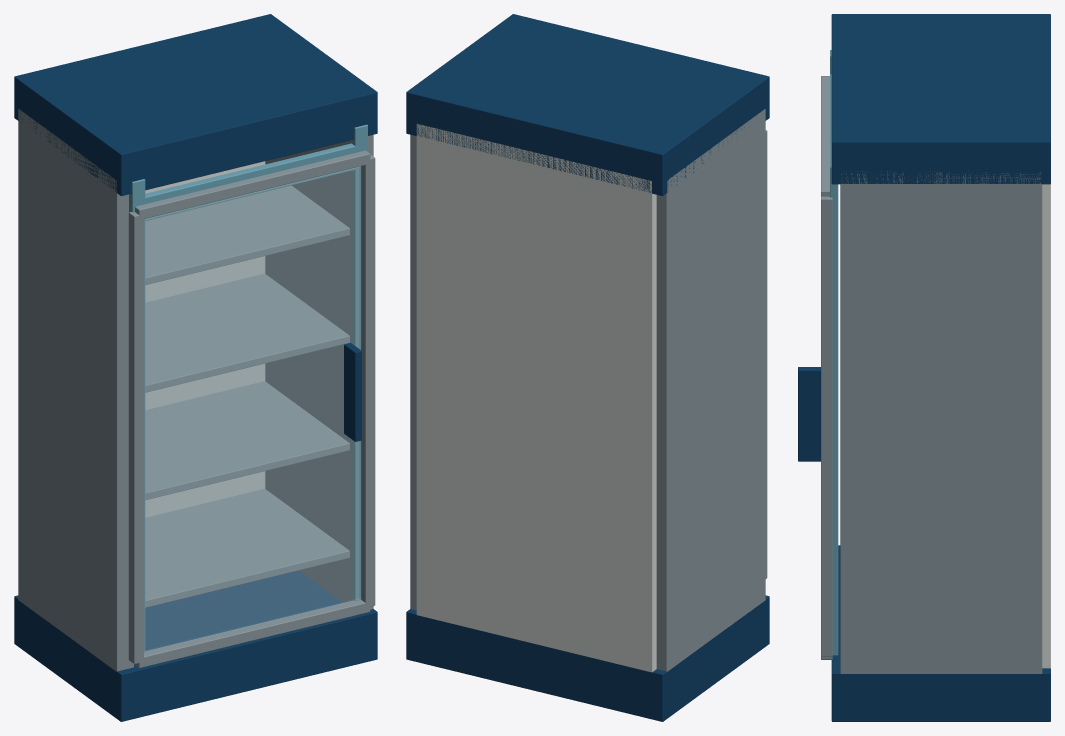
Rendered from edited.glb.
The picture shows the model from 3 angles, left to right: view 1: azimuth 30°, elevation 25°; view 2: azimuth 150°, elevation 25°; view 3: azimuth 270°, elevation 25°; orthographic projection. The views are drawn at different scales.
Visible parts, largest first — view 1: GLAZING_Door, CASE_Side.001, CASE_Top, CASE_Base, CASE_Side, SHELF.002, SHELF, SHELF.001, SHELF.003, DOOR_Stile, CASE_Back, DOOR_Stile.001 (+6 smaller); view 2: CASE_Back, CASE_Side.001, CASE_Top, CASE_Base, CASE_Side, DOOR_Stile; view 3: CASE_Side, CASE_Top, CASE_Base, DOOR_Stile.001, CASE_Back, GLAZING_Edge.001, HANDLE, DOOR_Rail.001.
Part boxes in pixels (left/top/right/bottom): GLAZING_Door: left=144, top=166, right=360, bottom=651; CASE_Side.001: left=18, top=109, right=133, bottom=671; CASE_Top: left=14, top=14, right=377, bottom=195; CASE_Base: left=14, top=570, right=377, bottom=721; CASE_Side: left=265, top=134, right=373, bottom=609; SHELF.002: left=145, top=273, right=349, bottom=392; SHELF: left=145, top=489, right=349, bottom=607; SHELF.001: left=145, top=381, right=349, bottom=499; SHELF.003: left=145, top=185, right=349, bottom=284; DOOR_Stile: left=128, top=212, right=143, bottom=664; CASE_Back: left=145, top=161, right=265, bottom=517; DOOR_Stile.001: left=361, top=154, right=375, bottom=606; CASE_Back: left=416, top=124, right=656, bottom=672; CASE_Side.001: left=656, top=109, right=765, bottom=671; CASE_Top: left=406, top=14, right=769, bottom=195; CASE_Base: left=406, top=595, right=769, bottom=721; CASE_Side: left=410, top=134, right=416, bottom=610; DOOR_Stile: left=765, top=130, right=767, bottom=578; CASE_Side: left=840, top=171, right=1042, bottom=673; CASE_Top: left=831, top=14, right=1050, bottom=184; CASE_Base: left=831, top=545, right=1050, bottom=721; DOOR_Stile.001: left=821, top=196, right=832, bottom=656; CASE_Back: left=1042, top=184, right=1050, bottom=668; GLAZING_Edge.001: left=830, top=161, right=838, bottom=655; HANDLE: left=798, top=367, right=820, bottom=461; DOOR_Rail.001: left=821, top=76, right=829, bottom=196.
Bounding box in the file's own units: 0.9 × 1.9 × 0.75.
